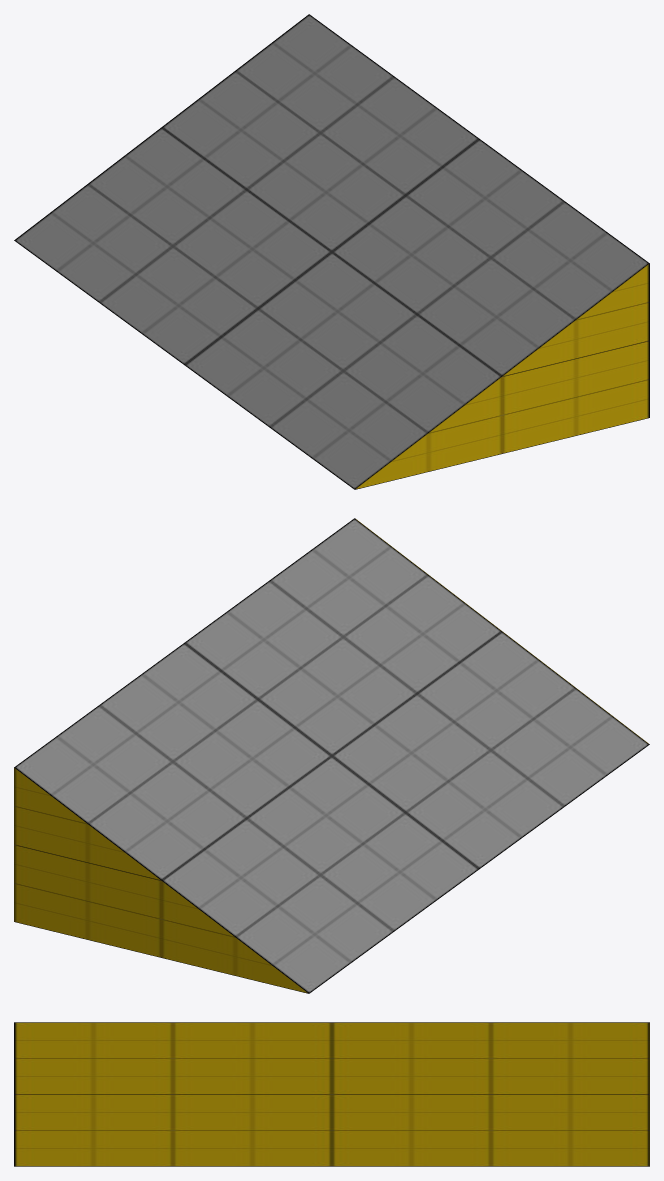
Rendered from debug_world_ramp_8x2x8.gltf.
The picture shows the model from 3 angles, top to bottom: view 1: azimuth 30°, elevation 25°; view 2: azimuth 150°, elevation 25°; view 3: azimuth 270°, elevation 25°; orthographic projection. The views are drawn at different scales.
Visible parts, largest first — view 1: debug_world_ramp_8x2x8; view 2: debug_world_ramp_8x2x8; view 3: debug_world_ramp_8x2x8.
Boxes of the visible parts, x1=… form: debug_world_ramp_8x2x8: x1=14, y1=14, x2=649, y2=489; debug_world_ramp_8x2x8: x1=14, y1=518, x2=649, y2=993; debug_world_ramp_8x2x8: x1=14, y1=1022, x2=649, y2=1166.
Bounding box in the file's own units: 2 × 1 × 4.
1 material, 1 textured.
